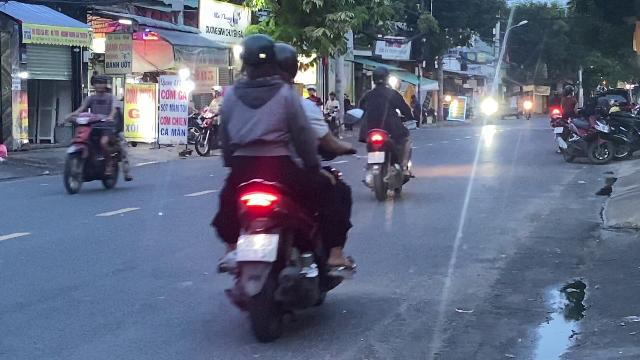helmet: (235, 32, 277, 80), (268, 41, 300, 83), (370, 66, 390, 86), (90, 74, 108, 92)
licenseplate: (236, 234, 278, 262), (368, 151, 384, 163)
motorcyclist: (207, 33, 359, 342), (58, 73, 136, 195), (354, 64, 416, 200)
